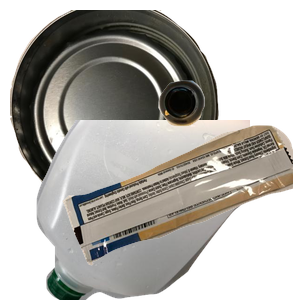glass: (156, 78, 300, 197)
metal: (10, 10, 221, 190)
plastic: (34, 120, 274, 300)
trash: (60, 123, 300, 300)
